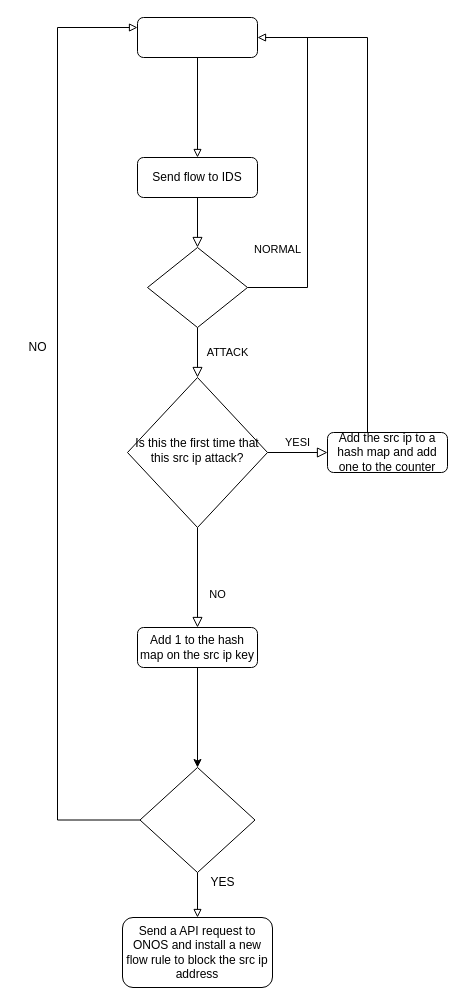
Image size: 465x1005. Some labels were removed from this diagram. Here are the shapes that lost their labels. From the top down, the centre of each, then its label:
point 197,37: Flow collection
point 197,287: Classification
point 197,819: value >= threshold
